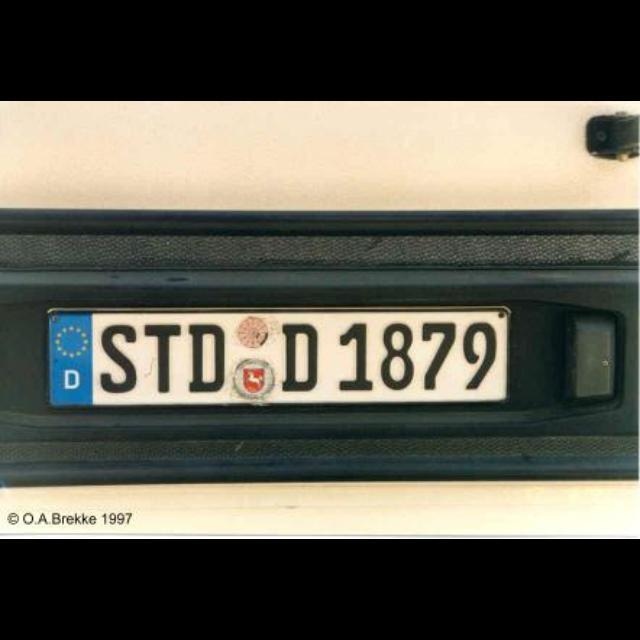license-plates: (48, 308, 511, 408)
